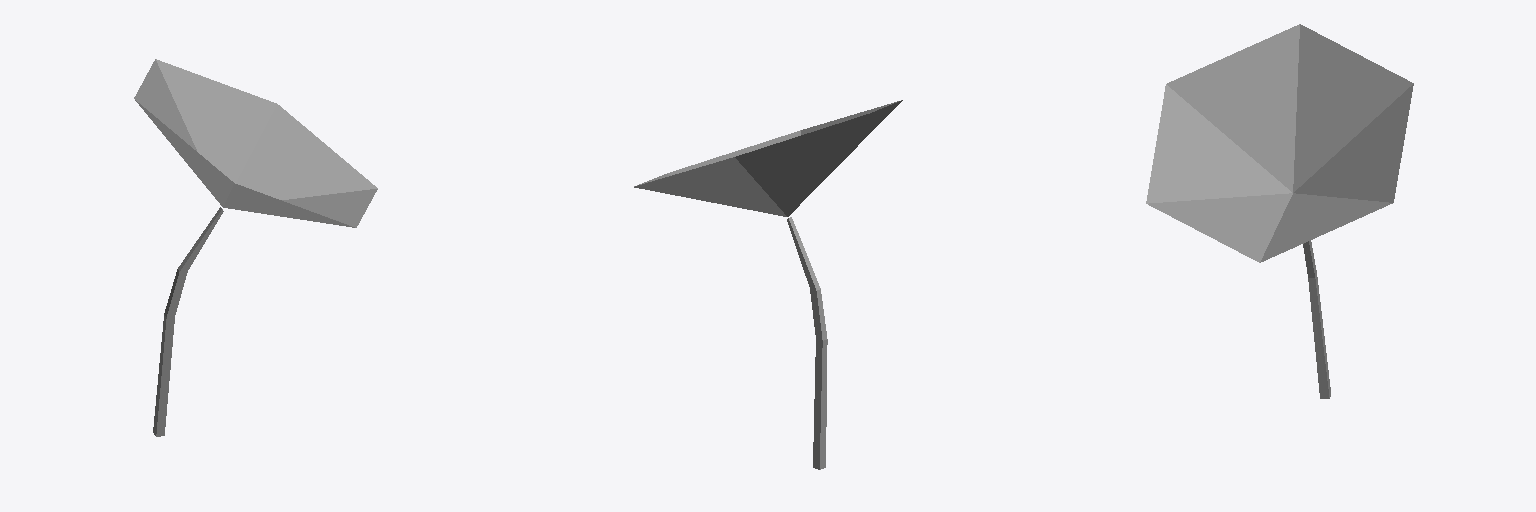
Rendered from Flower_2.obj.
3 renders of one model, left to right at view 1: azimuth 30°, elevation 25°; view 2: azimuth 150°, elevation 25°; view 3: azimuth 270°, elevation 25°, orthographic.
Visible parts, largest first — view 1: Flower_2_Plane.045; view 2: Flower_2_Plane.045; view 3: Flower_2_Plane.045.
Part boxes in pixels (left/top/right/bottom): Flower_2_Plane.045: left=134, top=59, right=377, bottom=436; Flower_2_Plane.045: left=634, top=100, right=902, bottom=469; Flower_2_Plane.045: left=1146, top=24, right=1413, bottom=398.
Bounding box in the file's own units: 0.239 × 0.3613 × 0.2473.